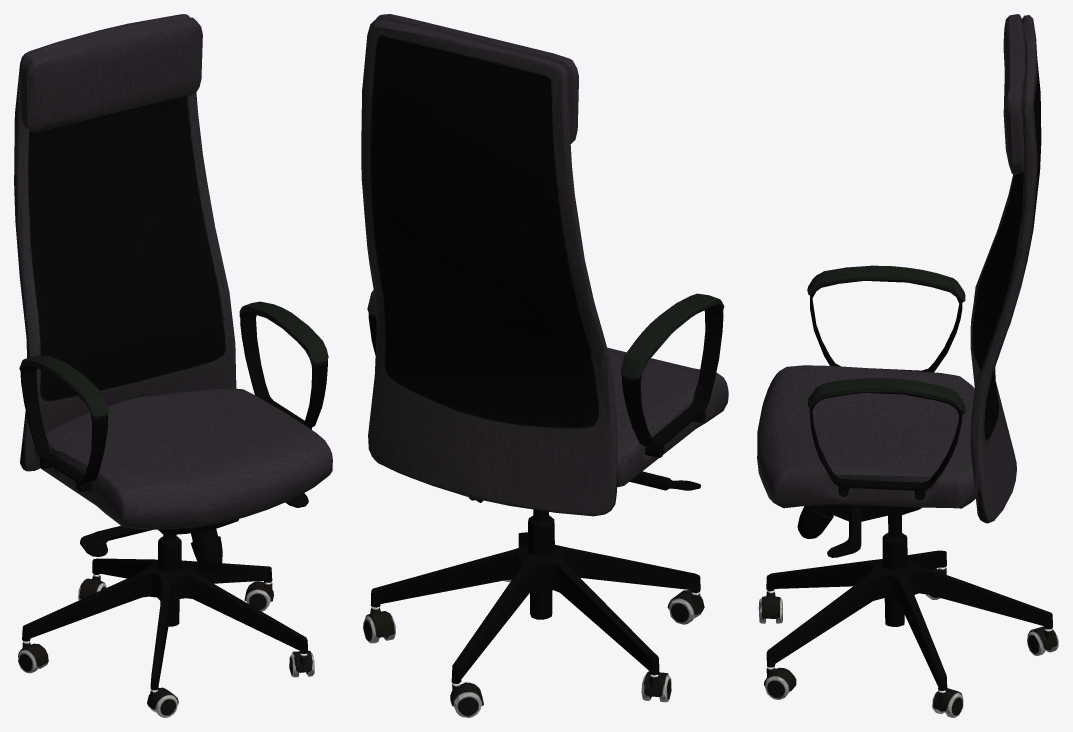
File: 18 - MARKUS - 辦公椅, Vissle 深灰色, 中 IKEA 線上購物.glb
The picture shows the model from 3 angles, left to right: view 1: azimuth 30°, elevation 25°; view 2: azimuth 150°, elevation 25°; view 3: azimuth 270°, elevation 25°; orthographic projection. The views are drawn at different scales.
Parts seen in each view (by area): view 1: ProcessedMeshNode; view 2: ProcessedMeshNode; view 3: ProcessedMeshNode.
Part boxes in pixels (x1,y1,x2,y2): ProcessedMeshNode: (14, 14, 332, 717); ProcessedMeshNode: (361, 14, 728, 717); ProcessedMeshNode: (757, 14, 1058, 717).
Size of the model in its own units: 0.6305 by 1.35 by 0.6094.
1 material, 1 textured.
